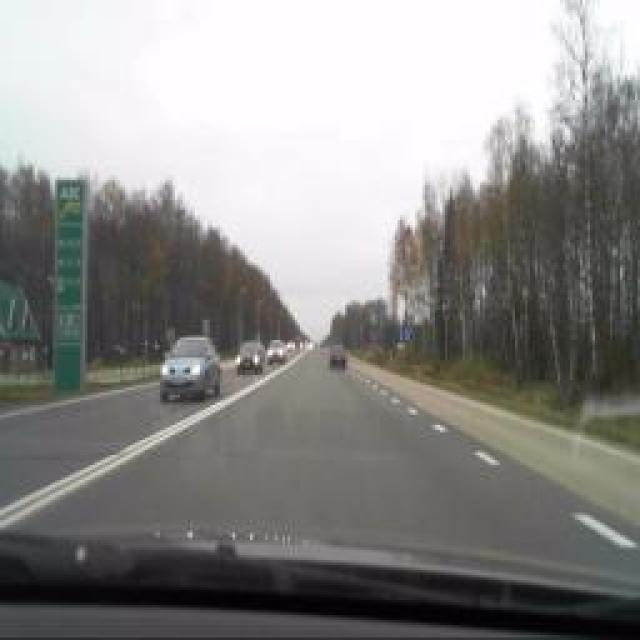sign: (398, 325, 414, 340)
